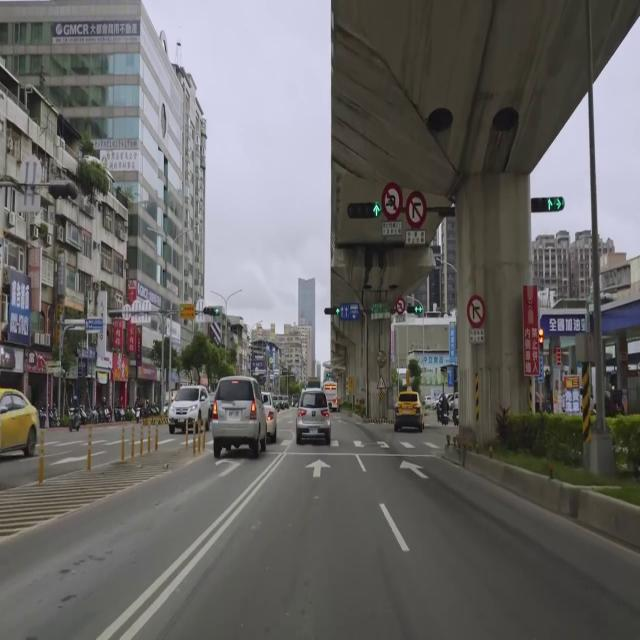green light: (347, 201, 382, 219), (530, 196, 564, 212), (202, 306, 220, 314), (407, 305, 422, 314), (324, 307, 340, 315)
